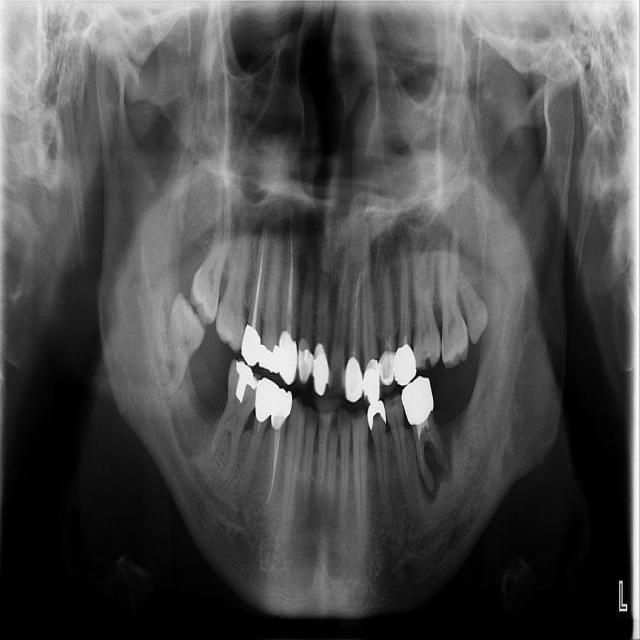Crown: (242, 323, 298, 388), (255, 375, 293, 431), (296, 336, 329, 396), (401, 375, 435, 427), (395, 343, 417, 387), (362, 359, 381, 406), (344, 355, 362, 402), (377, 350, 397, 390)
Filling: (232, 362, 259, 401), (366, 399, 386, 431)
Missing teeth: (185, 329, 231, 422), (432, 366, 471, 429)
Periapical lesion: (426, 431, 455, 482), (417, 443, 441, 503), (378, 501, 398, 532)
Root Canal Treatment: (252, 242, 264, 330), (352, 273, 362, 355), (269, 431, 280, 496), (287, 224, 293, 334), (417, 427, 429, 482), (425, 424, 445, 455), (272, 430, 277, 485), (256, 422, 262, 437)
impacted tooth: (147, 294, 206, 402), (456, 266, 487, 344)
